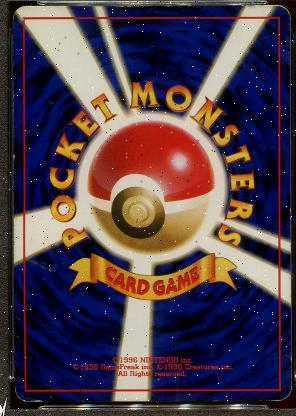Card: (12, 2, 290, 404)
Corner Wear: (13, 386, 43, 405), (265, 387, 291, 401)
Edge Wear: (12, 80, 15, 116), (287, 204, 290, 228), (13, 153, 15, 163)
Scratch: (29, 257, 63, 271), (282, 19, 289, 59), (26, 125, 32, 135), (47, 100, 55, 107), (15, 314, 20, 320), (47, 393, 52, 398)
